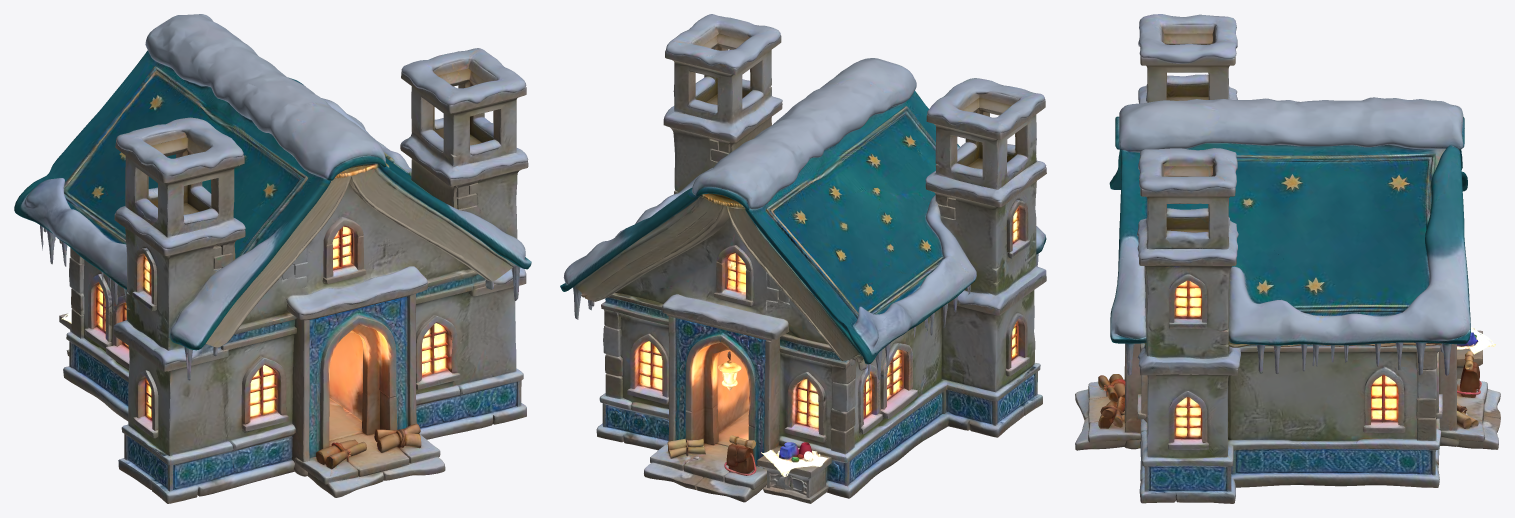
Rendered from other-wise-man.glb.
3 renders of one model, left to right at view 1: azimuth 30°, elevation 25°; view 2: azimuth 150°, elevation 25°; view 3: azimuth 270°, elevation 25°, orthographic. The views are drawn at different scales.
Parts seen in each view (by area): view 1: model; view 2: model; view 3: model.
Part boxes in pixels (x1,y1,x2,y2): model: (14,14,531,503); model: (560,14,1046,503); model: (1075,14,1500,503).
Bounding box in the file's own units: 1.81 × 1.6 × 1.9.
Materials: 1 (1 with a texture image).
